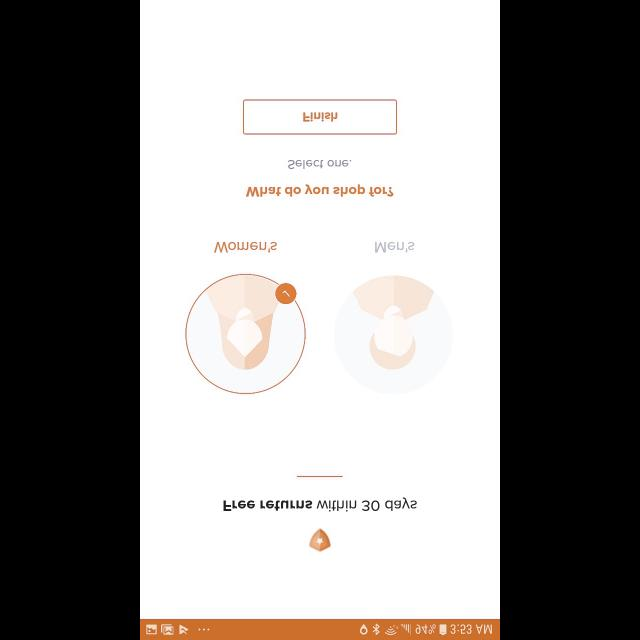image: (186, 274, 306, 394), (333, 276, 452, 394), (309, 528, 331, 552)
text: (223, 496, 417, 512), (246, 184, 394, 196), (288, 159, 352, 169), (215, 242, 278, 252), (375, 242, 415, 252)
textbutton: (243, 100, 397, 134)
uppertaskbar: (140, 618, 500, 640)
